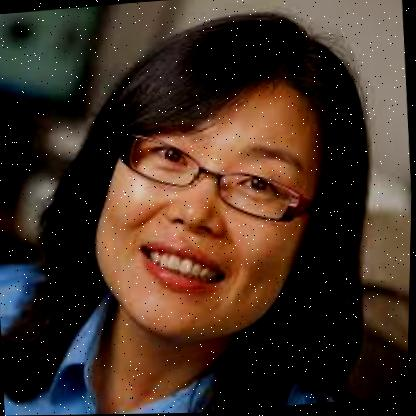person: (38, 9, 374, 368)
